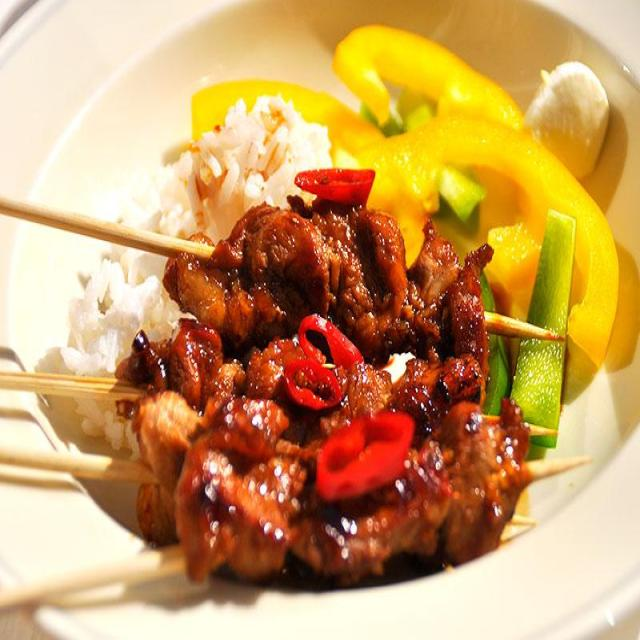Sate: (12, 174, 602, 619)
